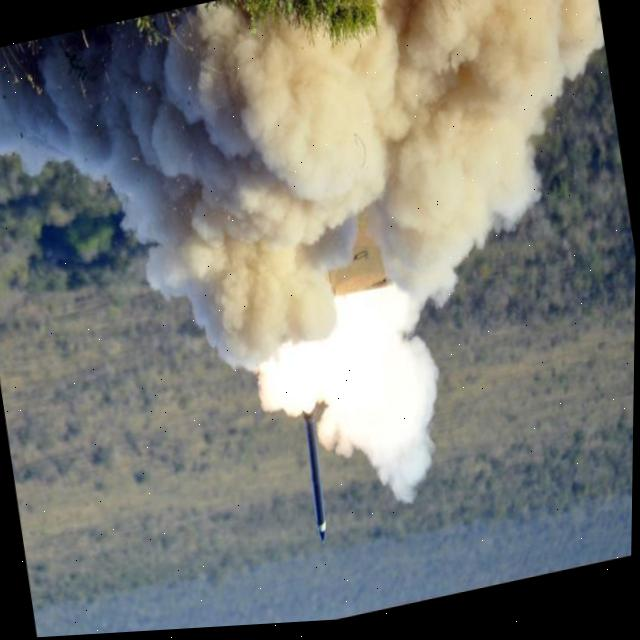missile: (293, 390, 341, 546)
